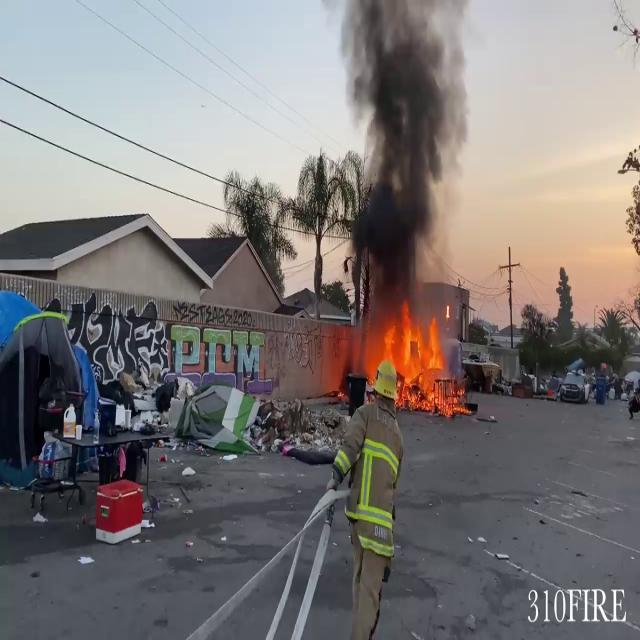Fire: (342, 300, 462, 410)
Smoke: (341, 0, 473, 290)
